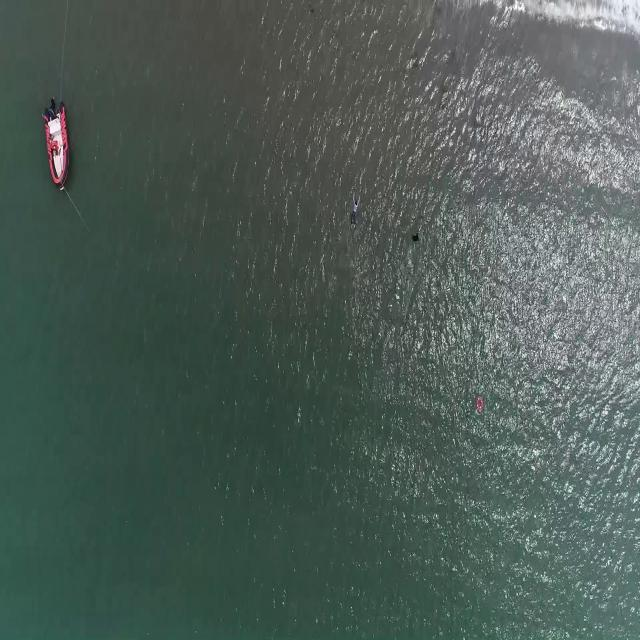boat: (40, 99, 70, 188)
life_buoy: (475, 396, 484, 412)
person: (349, 193, 362, 226), (411, 227, 420, 247)
